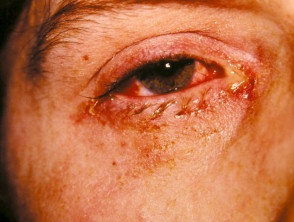SJS-TEN: (36, 0, 285, 222)
